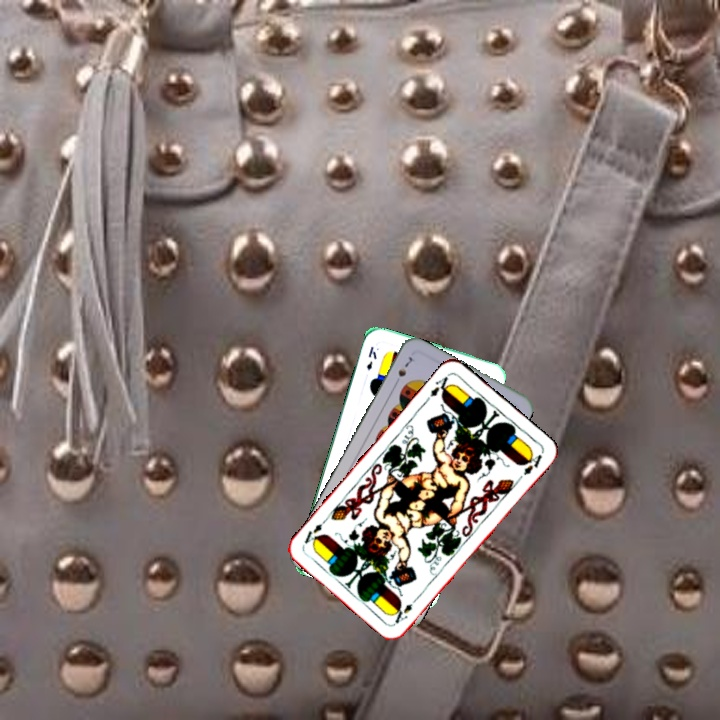EA: (422, 372, 455, 405), (391, 593, 421, 626)
EK: (362, 342, 379, 373)
S7: (390, 352, 415, 388)
